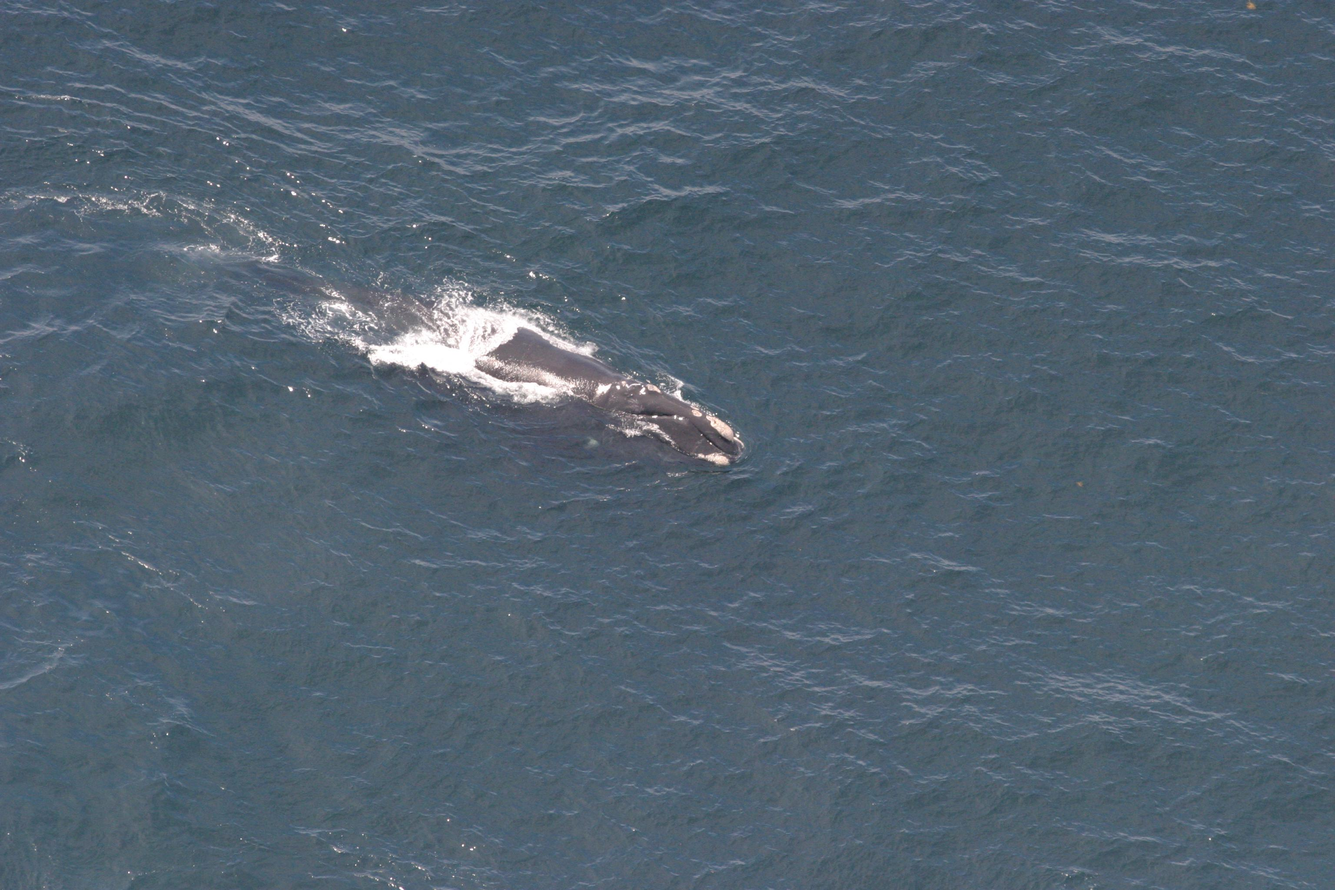whale: (112, 201, 760, 484)
